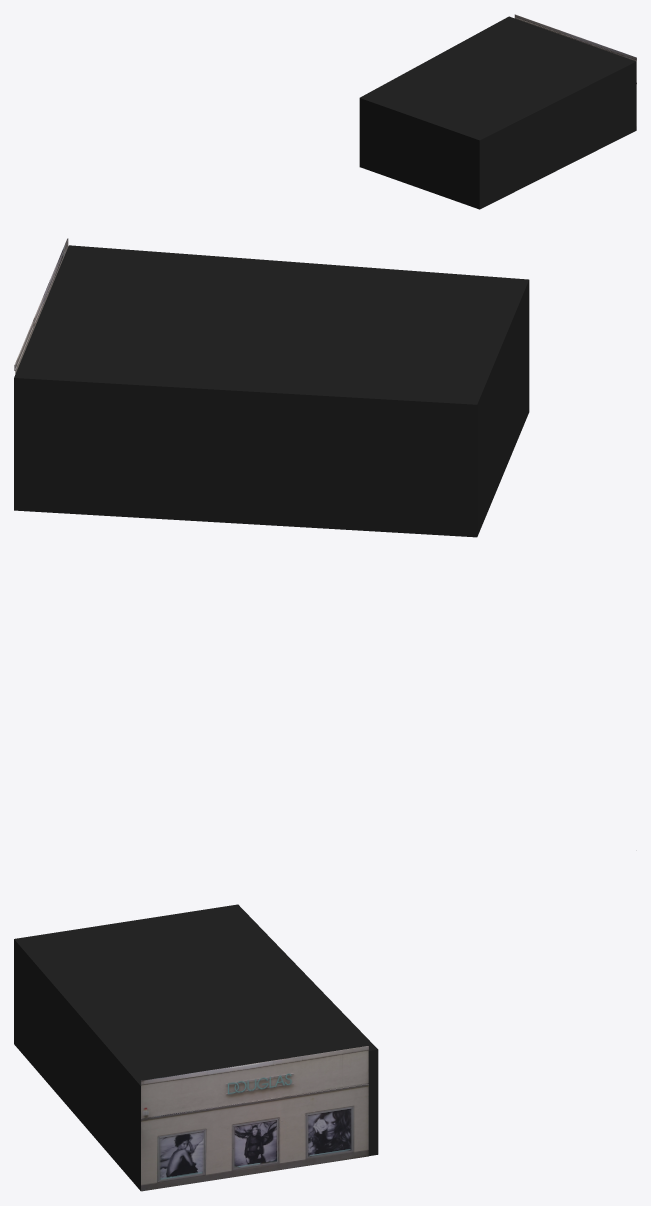
The model's file is Lindenstasse_02.FBX.
The picture shows the model from 3 angles, top to bottom: view 1: azimuth 30°, elevation 25°; view 2: azimuth 150°, elevation 25°; view 3: azimuth 270°, elevation 25°; orthographic projection. The views are drawn at different scales.
Parts seen in each view (by area): view 1: Lindenstasse_02, Lindenstasse_02_side_wall; view 2: Lindenstasse_02; view 3: Lindenstasse_02, Lindenstasse_02_side_wall.
Part boxes in pixels (left/top/right/bottom): Lindenstasse_02: left=359, top=16, right=636, bottom=209; Lindenstasse_02_side_wall: left=514, top=14, right=636, bottom=130; Lindenstasse_02: left=14, top=245, right=529, bottom=537; Lindenstasse_02: left=14, top=904, right=378, bottom=1190; Lindenstasse_02_side_wall: left=141, top=1046, right=368, bottom=1191.
Bounding box in the file's own units: 3478 × 527 × 2683.
Materials: 2 (1 with a texture image).
